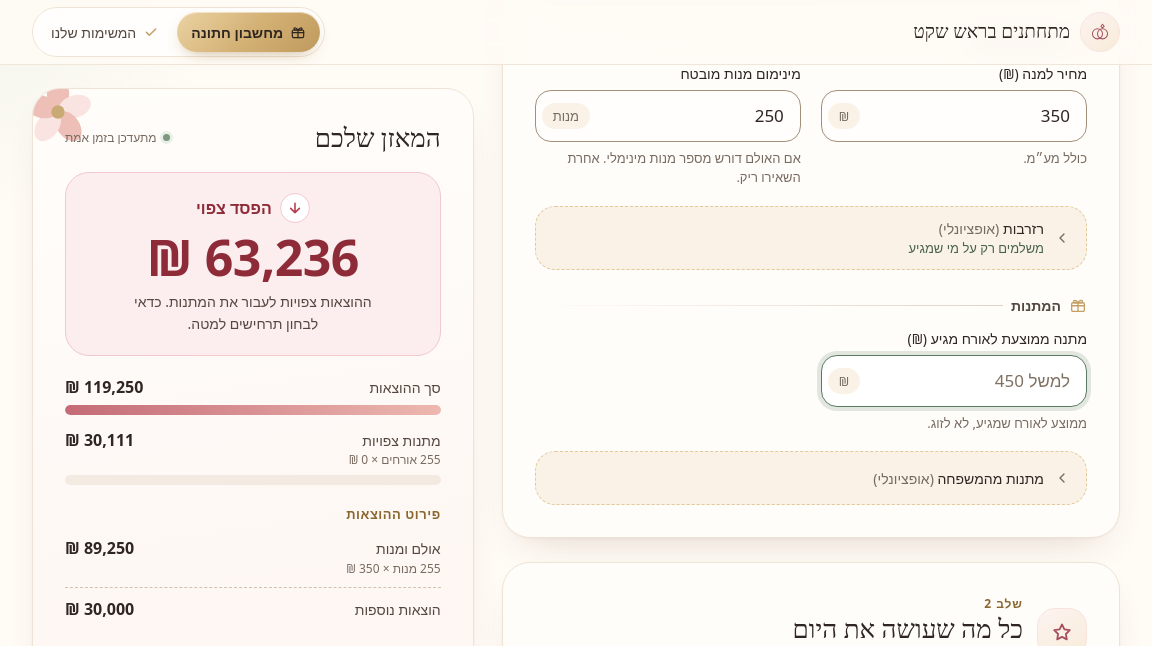
Test: Navigation › keeps the calculator data when navigating away and back
Earlier steps of the test are not shown.
(page scrolled)
Step 1. Type "520" into the field labelled "מתנה ממוצעת לאורח מגיע (₪)" → (973, 381), box 860,358 -> 1086,404
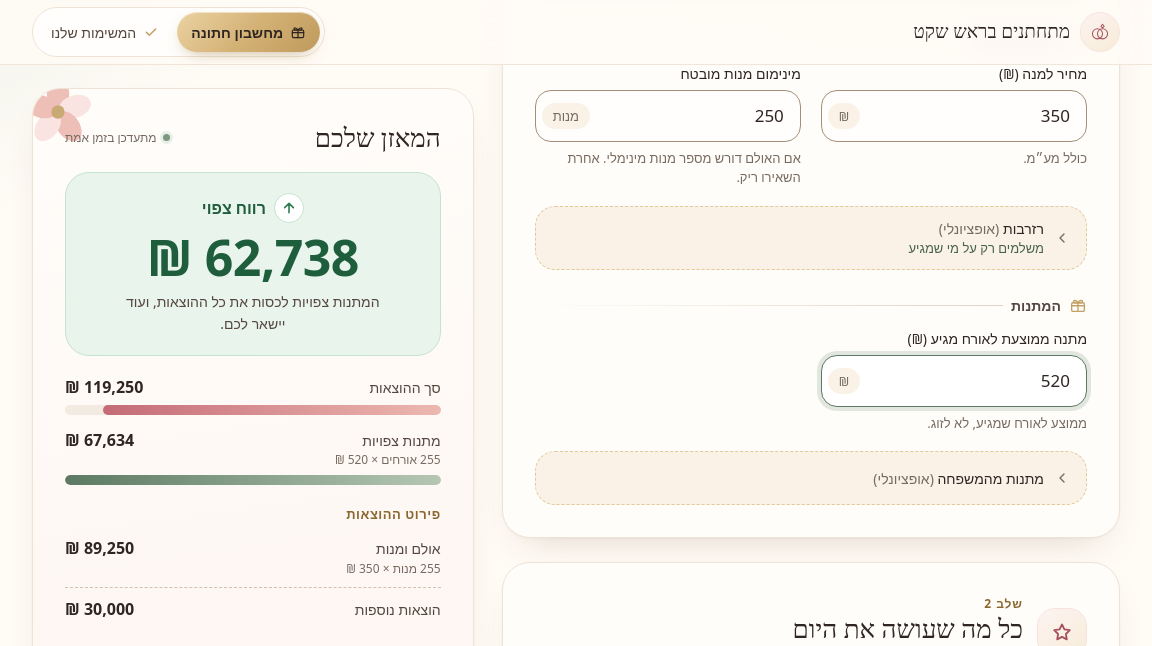
Step 2. Click the link "המשימות שלנו" → (105, 32), box 51,22 -> 159,42
(page scrolled)
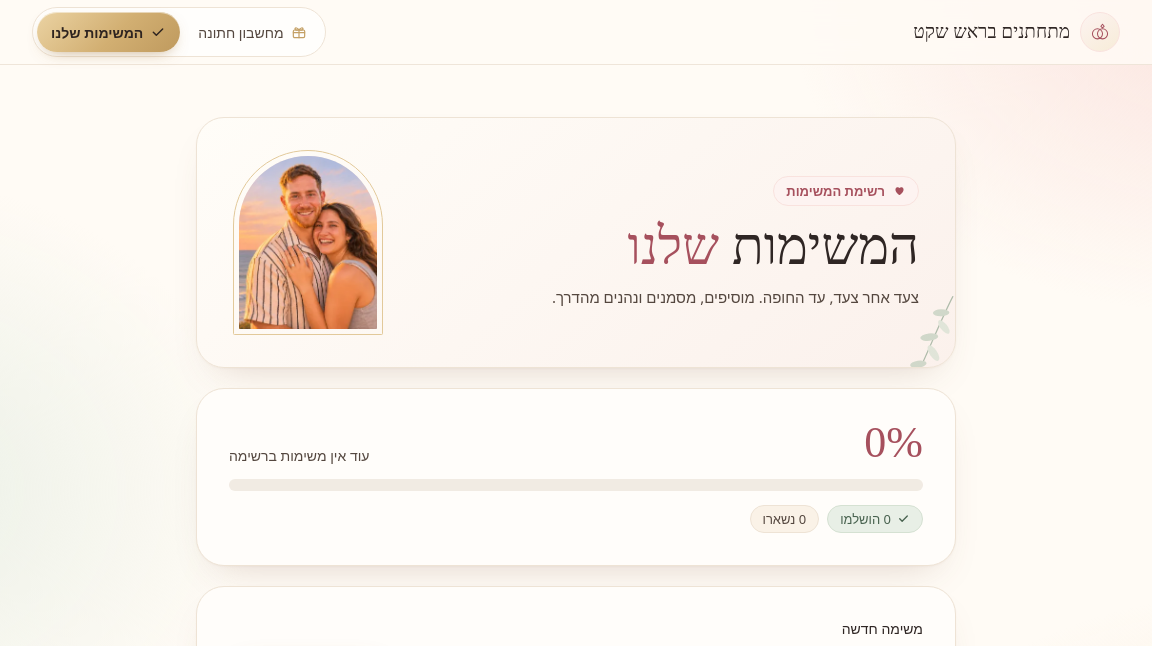
Step 3. Click the link "מחשבון חתונה" → (252, 32), box 198,22 -> 306,42
(page scrolled)
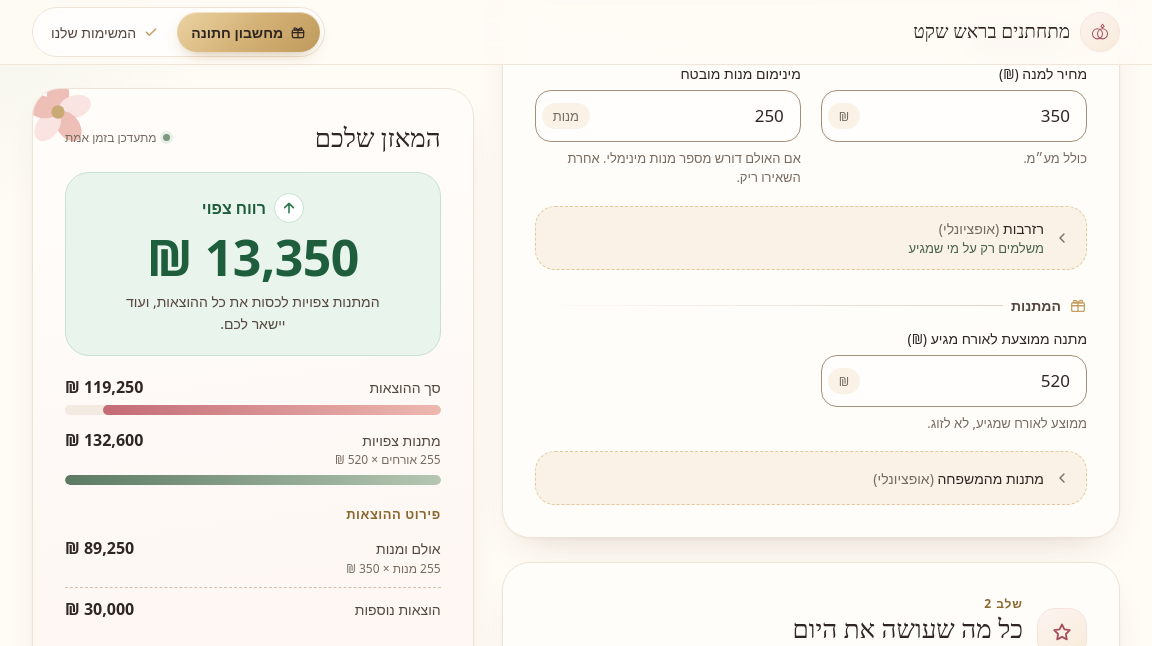
Expected: the field labelled "מתנה ממוצעת לאורח מגיע (₪)" holds "520", 860,358 -> 1086,404
